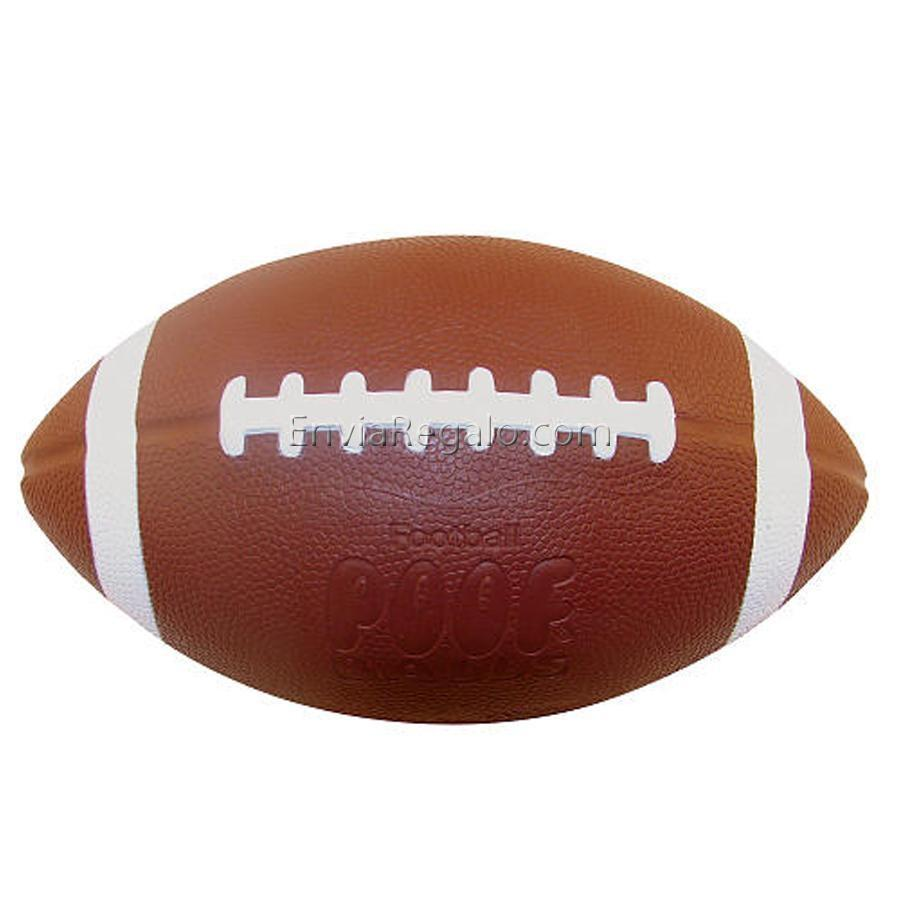Sports-Ball: (0, 204, 900, 758)
